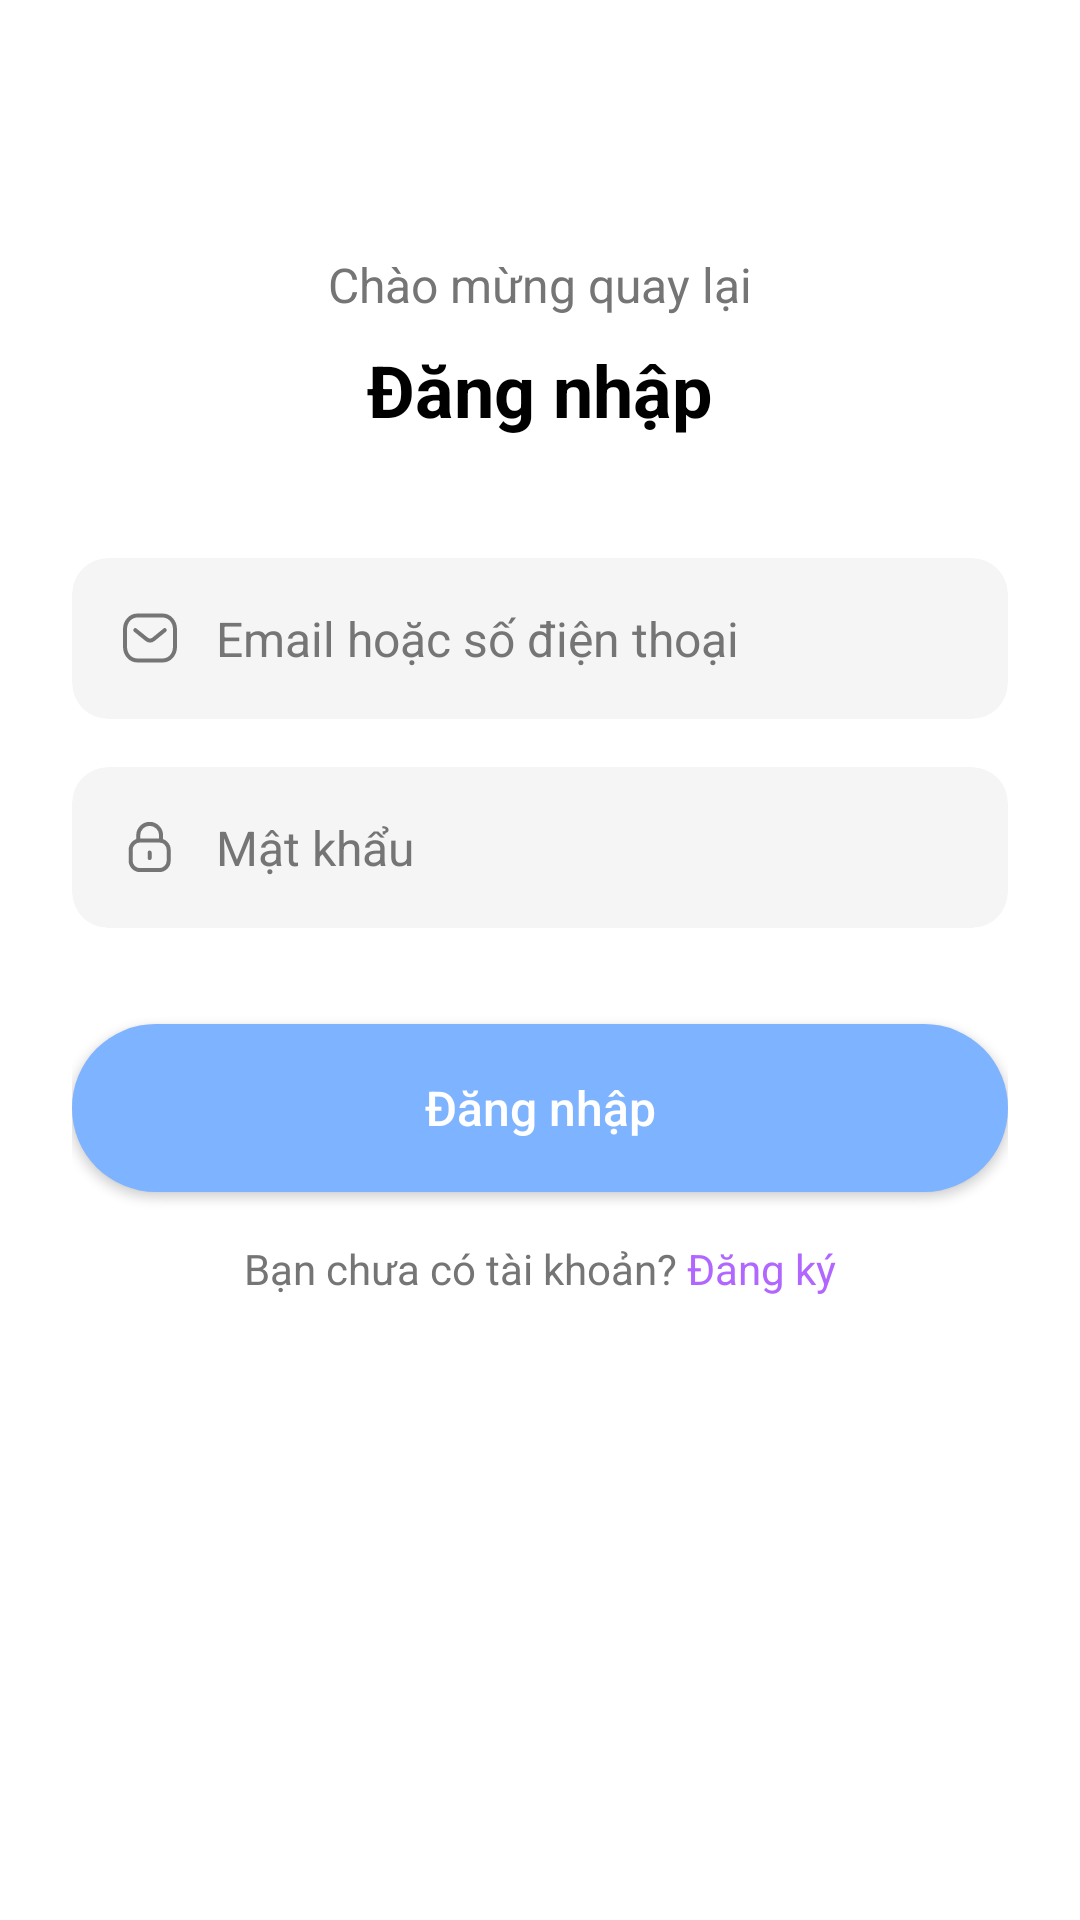

Icon bounding boxes for this 1080*1920 phone screenshot, format (x1, y1, x2, y2):
lock: (128, 822, 171, 872)
message: (123, 613, 177, 663)
